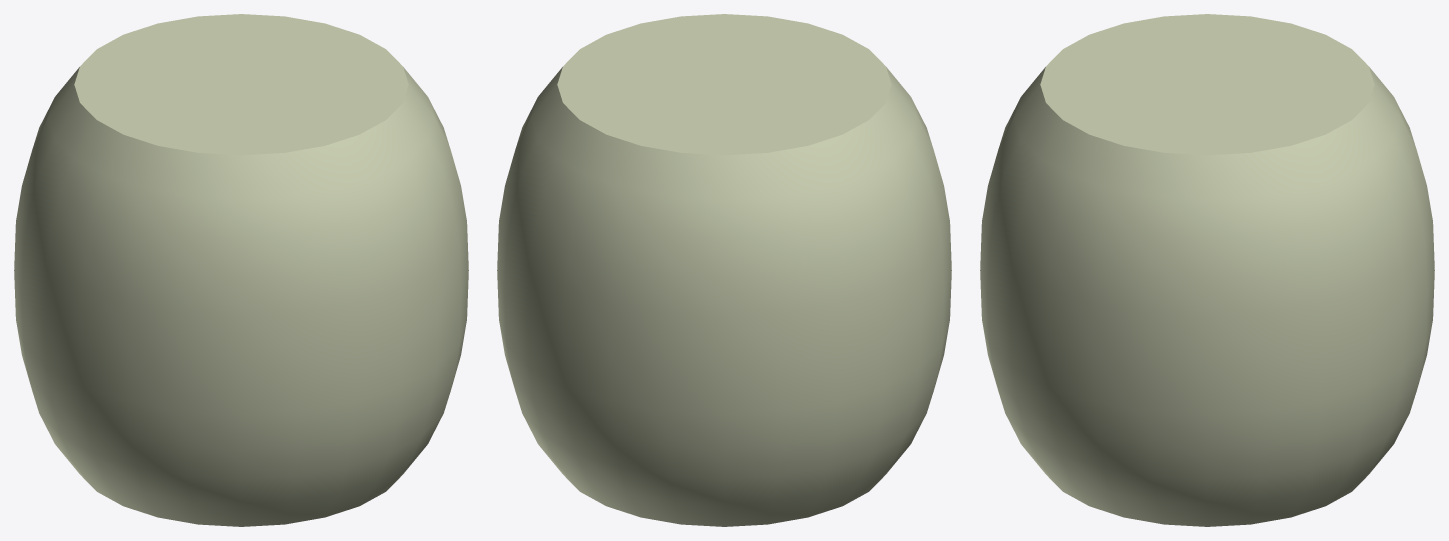
File: Hamal_Habitation_1.obj
3 views of the same model, side by side, from view 1: azimuth 30°, elevation 25°; view 2: azimuth 150°, elevation 25°; view 3: azimuth 270°, elevation 25° (orthographic).
Parts seen in each view (by area): view 1: sphere6_copy947; view 2: sphere6_copy947; view 3: sphere6_copy947.
Part boxes in pixels (bbox=[...]): sphere6_copy947: bbox=[14, 14, 468, 526]; sphere6_copy947: bbox=[497, 14, 951, 526]; sphere6_copy947: bbox=[980, 14, 1434, 526].
Bounding box in the file's own units: 1.27 × 1.15 × 1.27.
